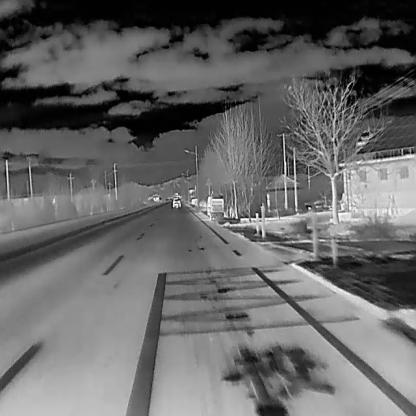car: (172, 197, 180, 207)
